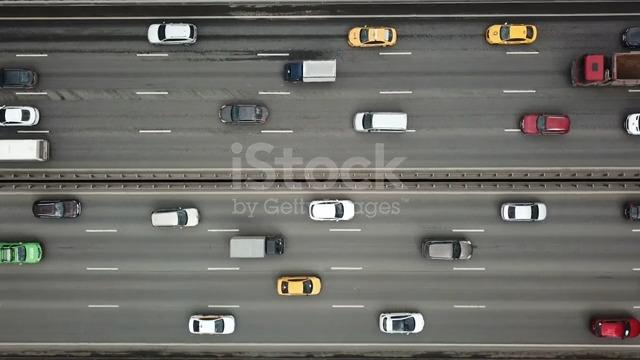Cars: (353, 111, 408, 134), (486, 23, 538, 46), (147, 23, 198, 46), (219, 103, 270, 126), (520, 113, 571, 136), (590, 317, 640, 340), (348, 26, 397, 49), (309, 199, 355, 222), (151, 207, 200, 228), (33, 199, 82, 220), (1, 241, 43, 265), (277, 276, 322, 297), (501, 202, 547, 222), (1, 105, 40, 127), (1, 68, 39, 90), (622, 26, 640, 50), (625, 113, 640, 136)
